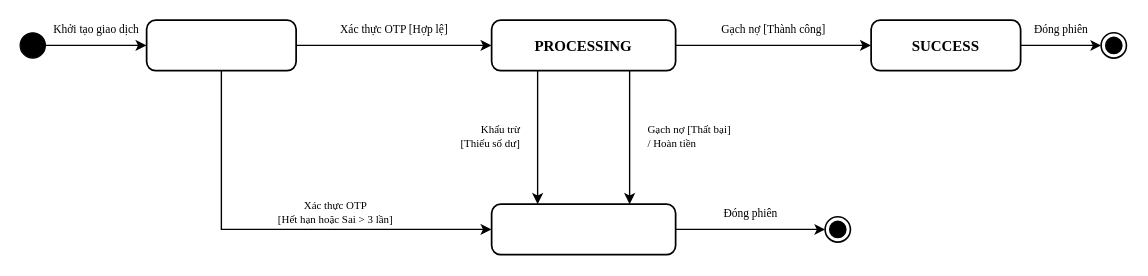
The diagram is 1148 pixels wide and 276 high, and some of its shapes have lost their labels. Each missing label, with the centre of its shape:
"FAILED" goes at point 583,229.
"PENDING" goes at point 220,45.
